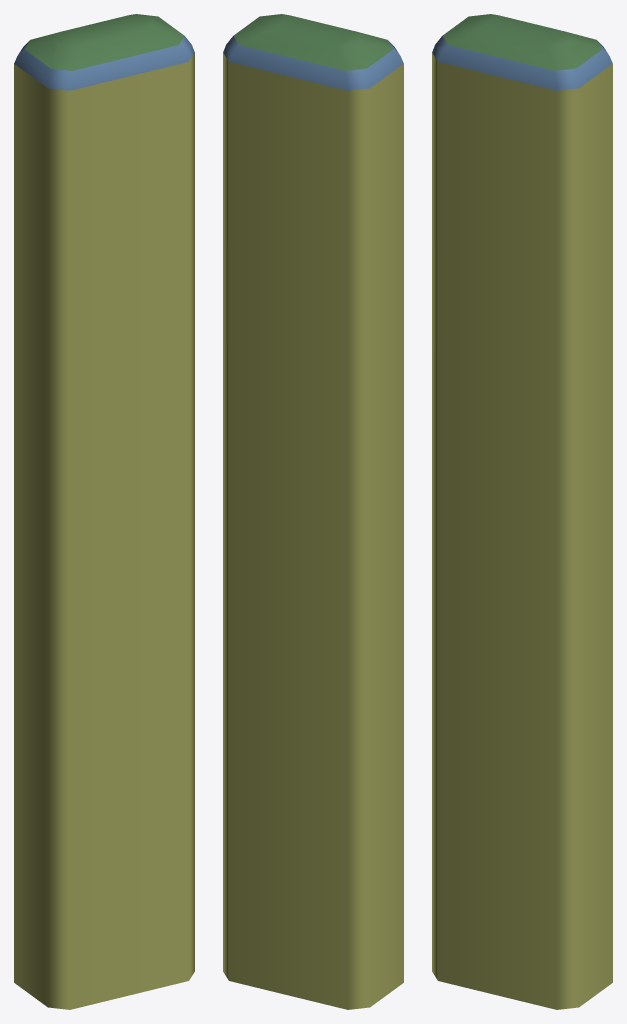
The model's file is Mini_PLat8.fbx.
The picture shows the model from 3 angles, left to right: view 1: azimuth 30°, elevation 25°; view 2: azimuth 150°, elevation 25°; view 3: azimuth 330°, elevation 25°; orthographic projection.
Visible parts, largest first — view 1: Mini_PLat4, Ground11, Wall9; view 2: Mini_PLat4, Ground11, Wall9; view 3: Mini_PLat4, Ground11, Wall9.
Part boxes in pixels (left/top/right/bottom): Mini_PLat4: left=14, top=53, right=194, bottom=1009; Ground11: left=24, top=14, right=184, bottom=70; Wall9: left=14, top=36, right=194, bottom=90; Mini_PLat4: left=223, top=53, right=403, bottom=1009; Ground11: left=233, top=14, right=393, bottom=70; Wall9: left=223, top=36, right=403, bottom=90; Mini_PLat4: left=432, top=53, right=612, bottom=1009; Ground11: left=442, top=14, right=602, bottom=70; Wall9: left=432, top=36, right=612, bottom=90.
Size of the model in its own units: 2037 by 12531 by 1200.
